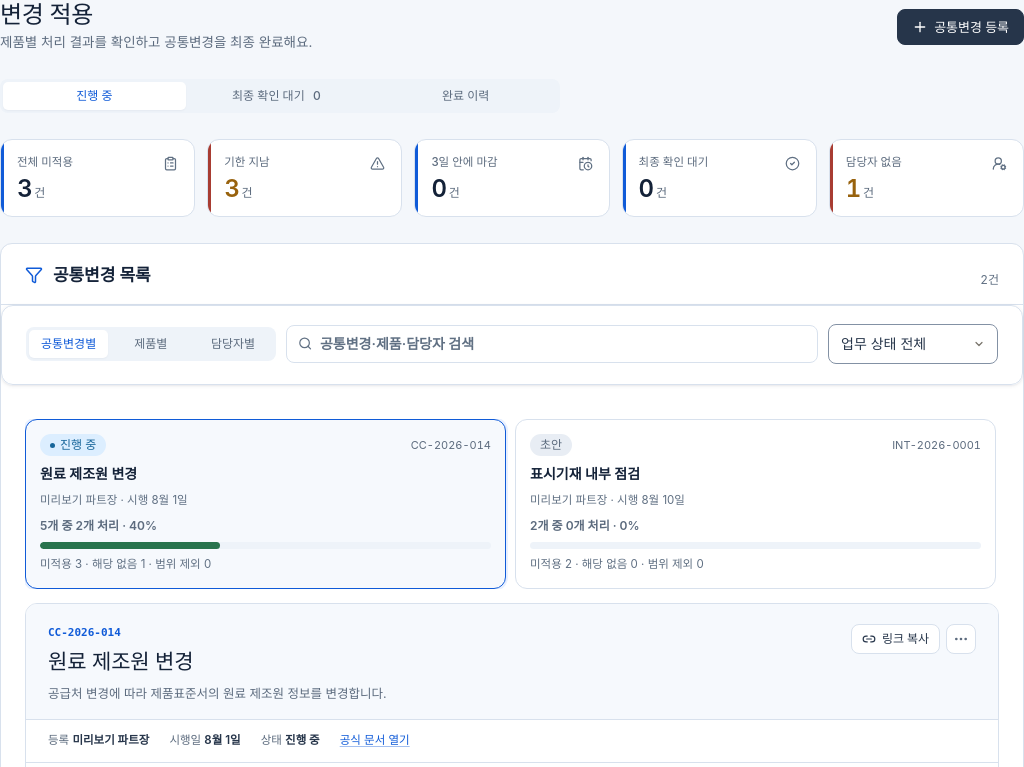
Scenario: ChangeApplicationsPanel › filters the task list from the summary cards and shows how to clear the filter
This screenshot has width=1024, height=767.
Click the button "제품별": coordinates (151, 344) [111,330,190,358]
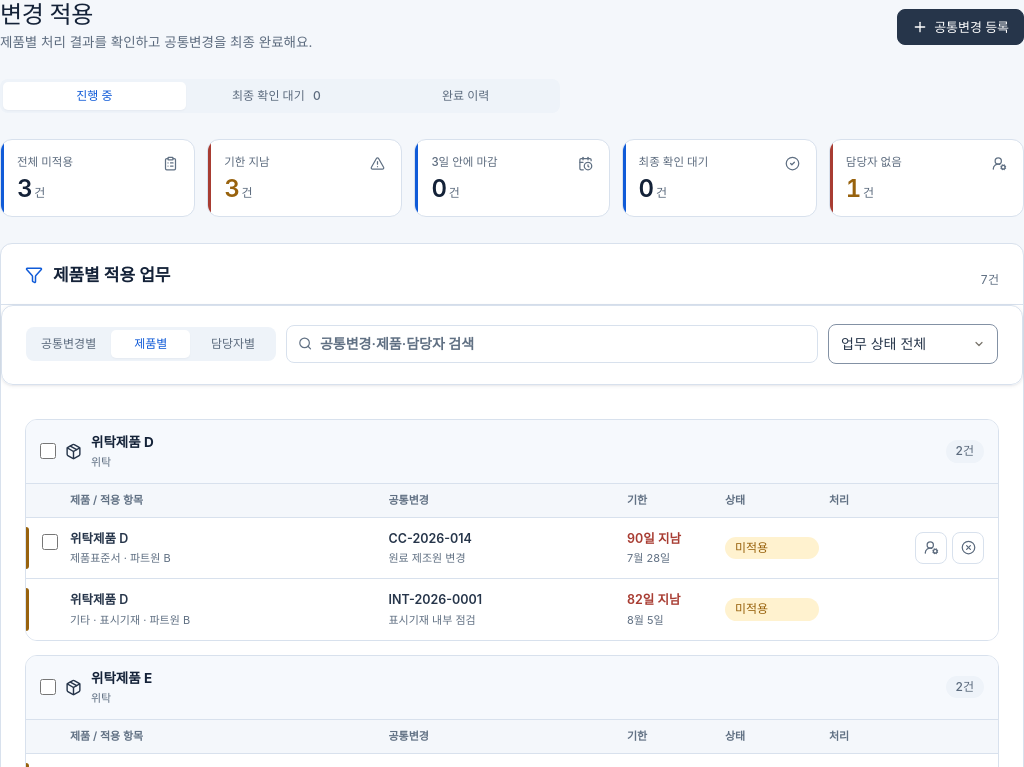
Click the button "담당자 없음 1건": coordinates (926, 178) [829,139,1023,217]
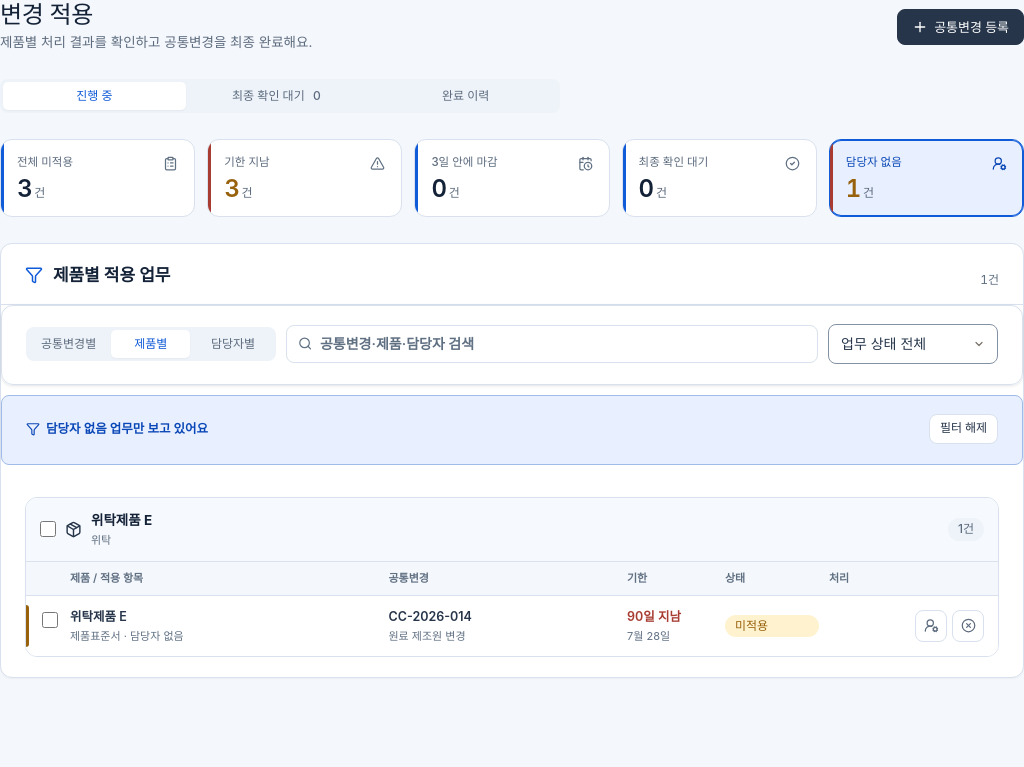
Expected: the 1st text "위탁제품 E" is shown, [91,510,152,531]
Now the text "담당자 없음 업무만 보고 있어요" is shown, box [26,419,208,438]
Click the button "필터 해제": coordinates (963, 429) [929,414,998,444]
(page scrolled)
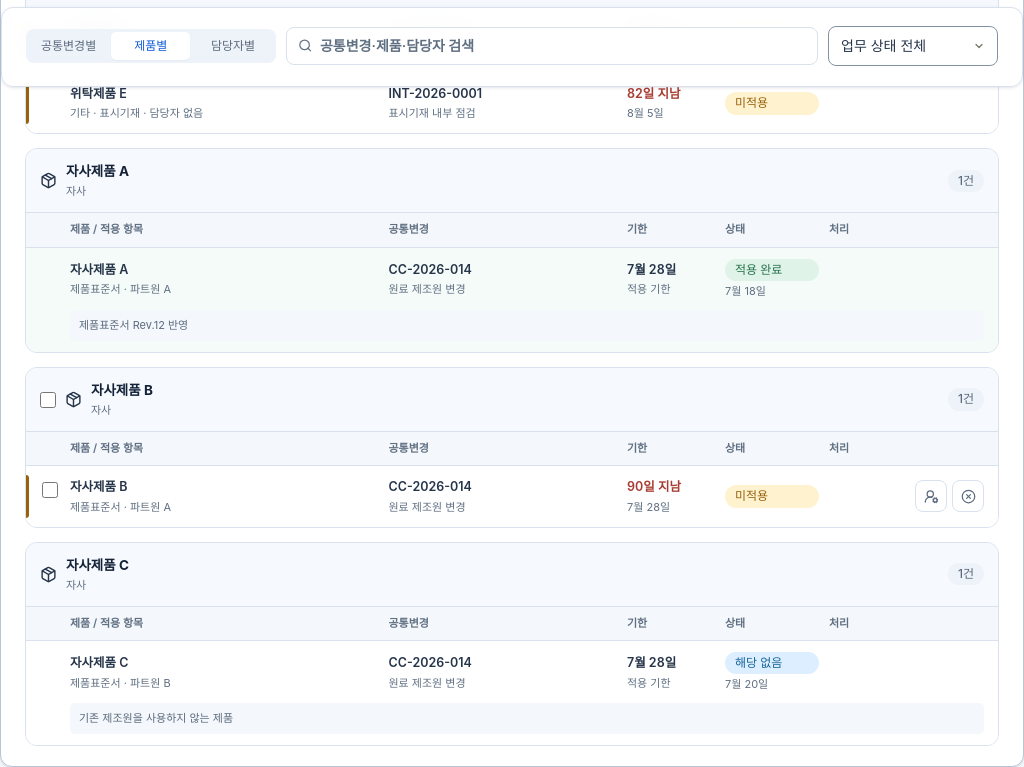
Now the 1st text "자사제품 B" is shown, box [91,380,153,401]
